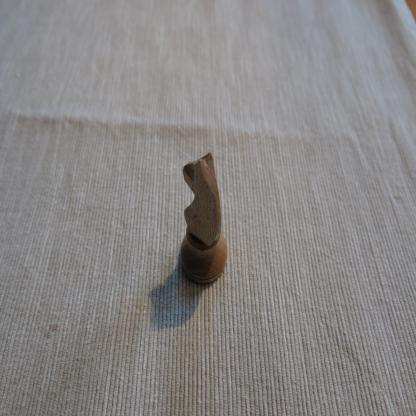white-knight: (180, 152, 228, 285)
